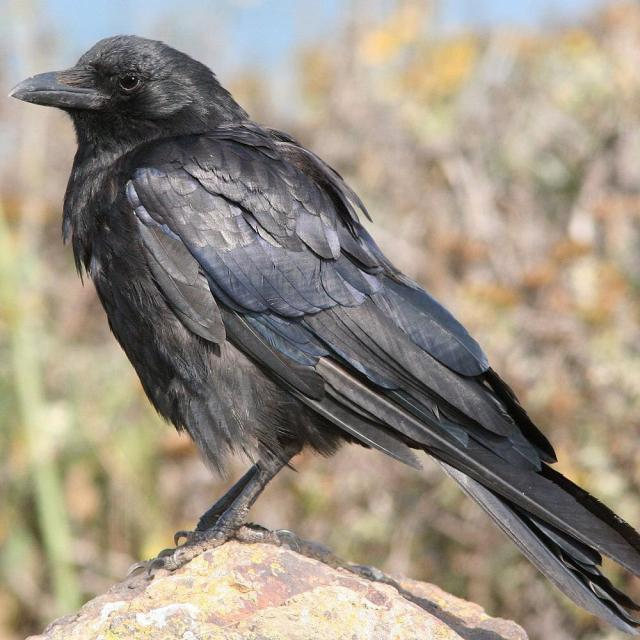crow: (59, 36, 352, 368)
